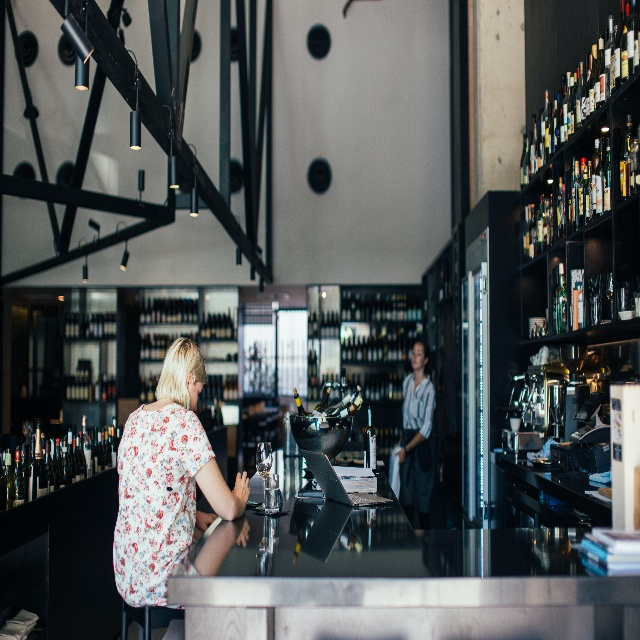Sin_guantes: (231, 471, 251, 506), (195, 508, 214, 533), (395, 446, 406, 465)
